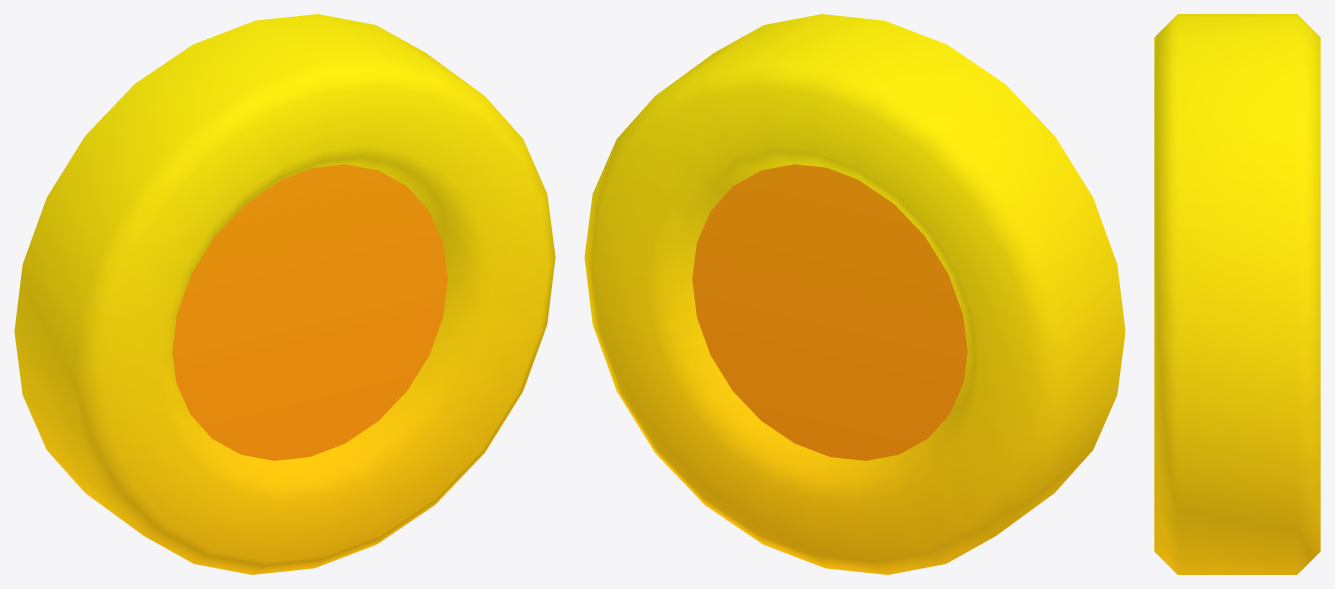
The model's file is Coin_01.glb.
3 renders of one model, left to right at view 1: azimuth 30°, elevation 25°; view 2: azimuth 150°, elevation 25°; view 3: azimuth 270°, elevation 25°, orthographic.
Visible parts, largest first — view 1: Coin_01; view 2: Coin_01; view 3: Coin_01.
Part boxes in pixels (x1,y1,x2,y2): Coin_01: (14,14,555,574); Coin_01: (584,14,1125,574); Coin_01: (1154,14,1320,574).
Size of the model in its own units: 1.04 by 1.04 by 0.308.
1 material, 1 textured.
